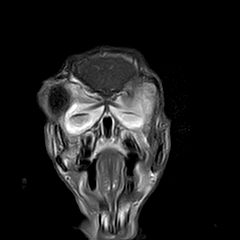Brain: (57, 22, 156, 120)
